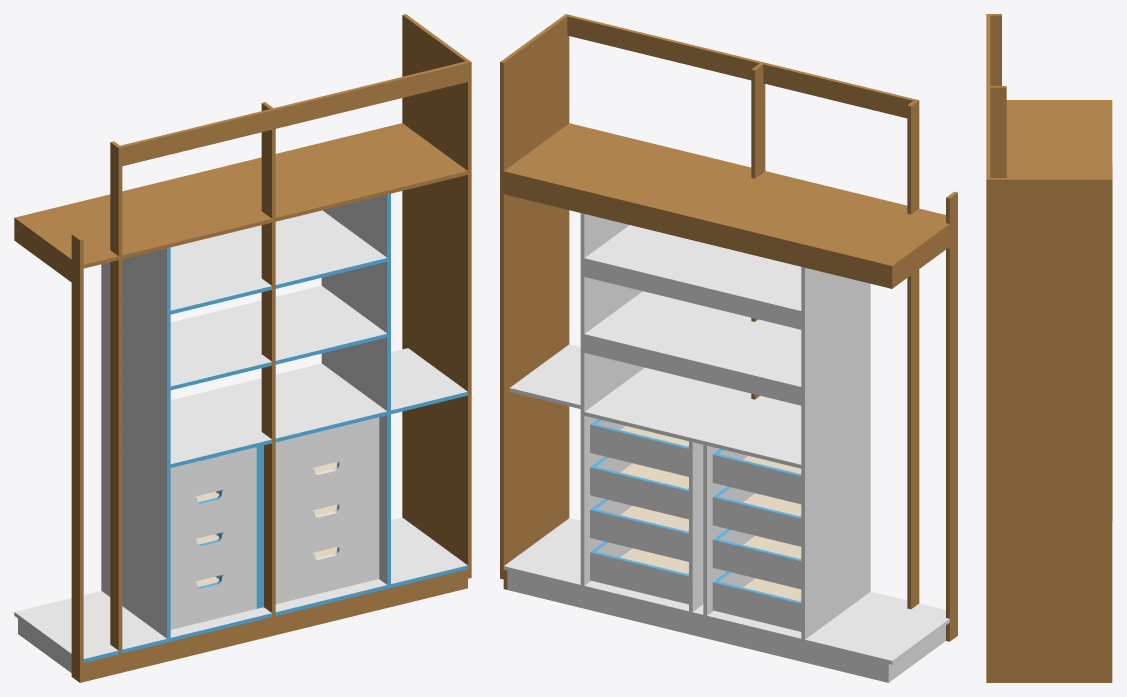
Rendered from Ropero-03.glb.
The picture shows the model from 3 angles, left to right: view 1: azimuth 30°, elevation 25°; view 2: azimuth 150°, elevation 25°; view 3: azimuth 270°, elevation 25°; orthographic projection. The views are drawn at different scales.
Visible parts, largest first — view 1: DC03-LateralGrande01 (×2), 221, 752, DC03-Repisa01 (×2), DC03-PuertaCajon01 (×4), DC03-PuertaCajon02 (×3), DC03-Techo01, DC03-Piso01, 168, 305, 578, 385 (+6 smaller); view 2: DC03-LateralGrande01 (×2), 221, 752, DC03-Repisa01 (×2), DC03-Techo01, DC03-Piso01, DC03-CajonParalelo02 (×4), DC03-CajonParalelo01 (×4), 3656, DC03-Zocalo02, 305, DC03-Soporte03 (×2) (+9 smaller); view 3: 221, 752, 578, 275, 385, 305, DC03-LateralGrande01.
Boxes of the visible parts, x1=… form: DC03-LateralGrande01 (×2): x1=101, y1=193, x2=390, y2=638; 221: x1=402, y1=14, x2=471, y2=578; 752: x1=14, y1=123, x2=467, y2=268; DC03-Repisa01 (×2): x1=170, y1=210, x2=387, y2=390; DC03-PuertaCajon01 (×4): x1=170, y1=447, x2=256, y2=629; DC03-PuertaCajon02 (×3): x1=275, y1=452, x2=379, y2=603; DC03-Techo01: x1=170, y1=363, x2=387, y2=467; DC03-Piso01: x1=14, y1=517, x2=467, y2=662; 168: x1=78, y1=569, x2=467, y2=682; 305: x1=116, y1=61, x2=467, y2=167; 578: x1=261, y1=102, x2=275, y2=616; 385: x1=110, y1=141, x2=122, y2=654; DC03-LateralGrande01 (×2): x1=580, y1=213, x2=870, y2=639; 221: x1=500, y1=14, x2=569, y2=579; 752: x1=503, y1=123, x2=949, y2=269; DC03-Repisa01 (×2): x1=584, y1=225, x2=801, y2=390; DC03-Techo01: x1=584, y1=367, x2=801, y2=468; DC03-Piso01: x1=503, y1=518, x2=949, y2=664; DC03-CajonParalelo02 (×4): x1=593, y1=424, x2=687, y2=603; DC03-CajonParalelo01 (×4): x1=716, y1=454, x2=799, y2=630; 3656: x1=503, y1=175, x2=888, y2=287; DC03-Zocalo02: x1=507, y1=571, x2=890, y2=682; 305: x1=567, y1=15, x2=919, y2=120; DC03-Soporte03 (×2): x1=584, y1=262, x2=801, y2=405; 221: x1=986, y1=178, x2=1112, y2=675; 752: x1=1006, y1=100, x2=1112, y2=177; 578: x1=990, y1=86, x2=1006, y2=177; 275: x1=990, y1=675, x2=1112, y2=682; 385: x1=990, y1=14, x2=1001, y2=85; 305: x1=986, y1=14, x2=990, y2=177; DC03-LateralGrande01: x1=1112, y1=163, x2=1112, y2=521.
Bounding box in the file's own units: 1.93 × 2.48 × 0.561.
